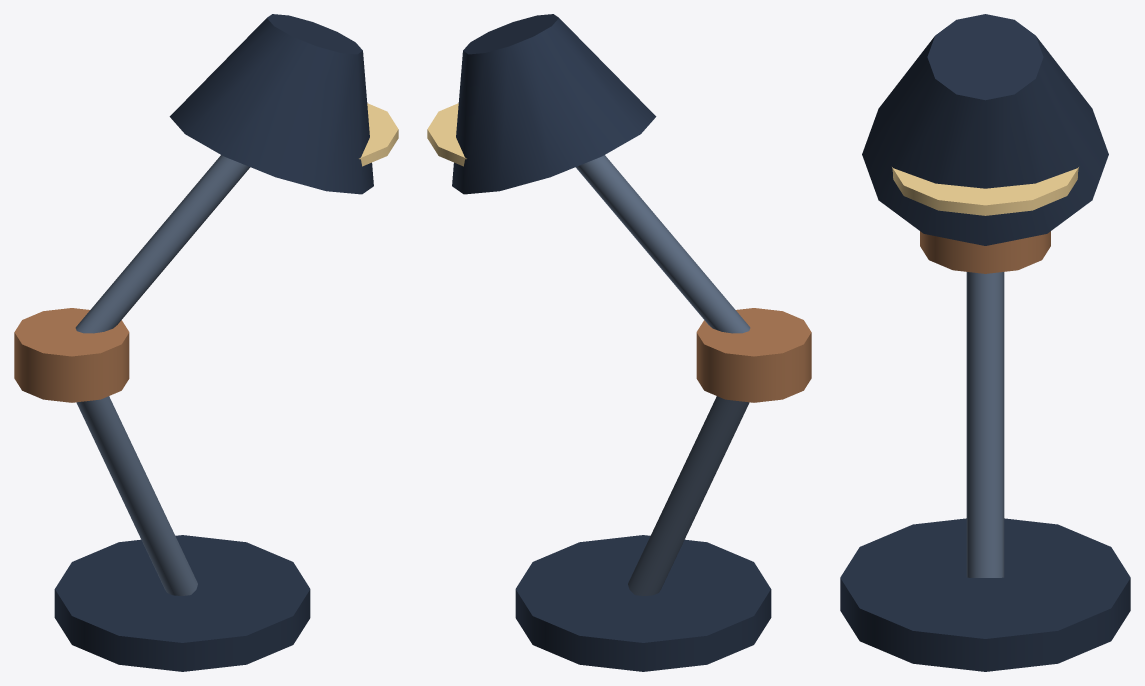
The model's file is officeDeskLamp.glb.
The picture shows the model from 3 angles, left to right: view 1: azimuth 30°, elevation 25°; view 2: azimuth 150°, elevation 25°; view 3: azimuth 270°, elevation 25°; orthographic projection. The views are drawn at different scales.
Size of the model in its own units: 0.33 by 0.4916 by 0.2.
